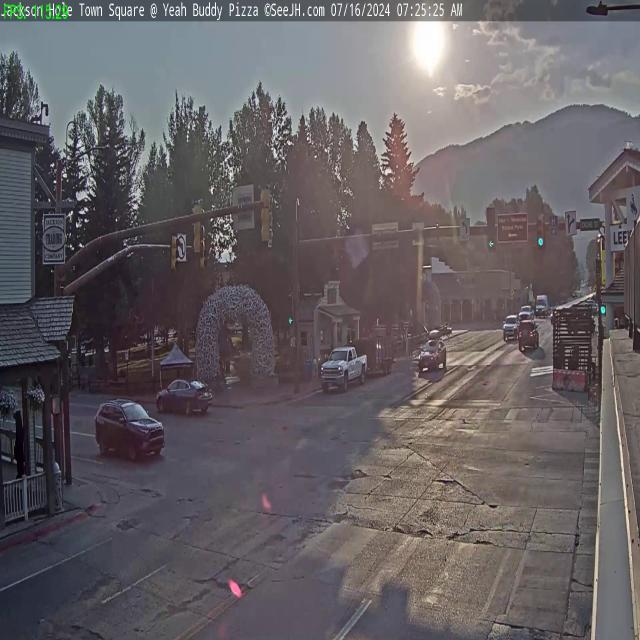pickup: (320, 343, 366, 394)
sedan: (156, 376, 212, 418)
suv: (94, 396, 166, 464), (418, 336, 446, 373)
traffic light: (190, 199, 204, 256), (260, 185, 272, 245), (486, 207, 496, 250), (536, 214, 546, 248), (171, 234, 179, 271)
